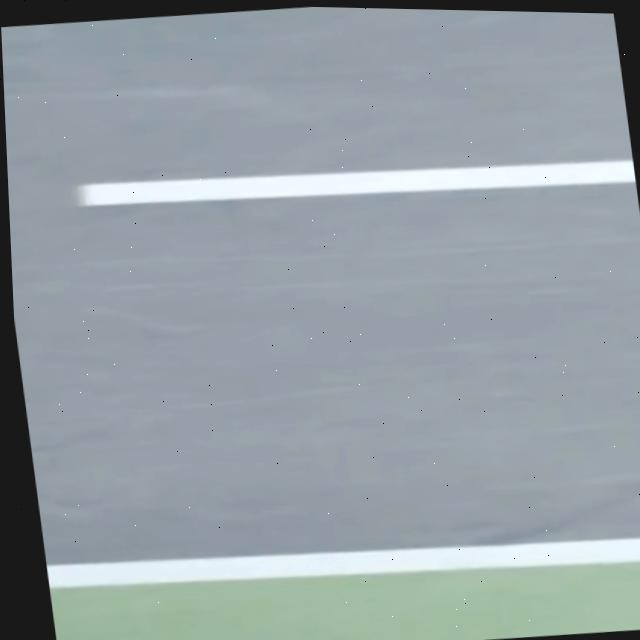center: (78, 158, 635, 205)
right: (45, 537, 640, 587)
